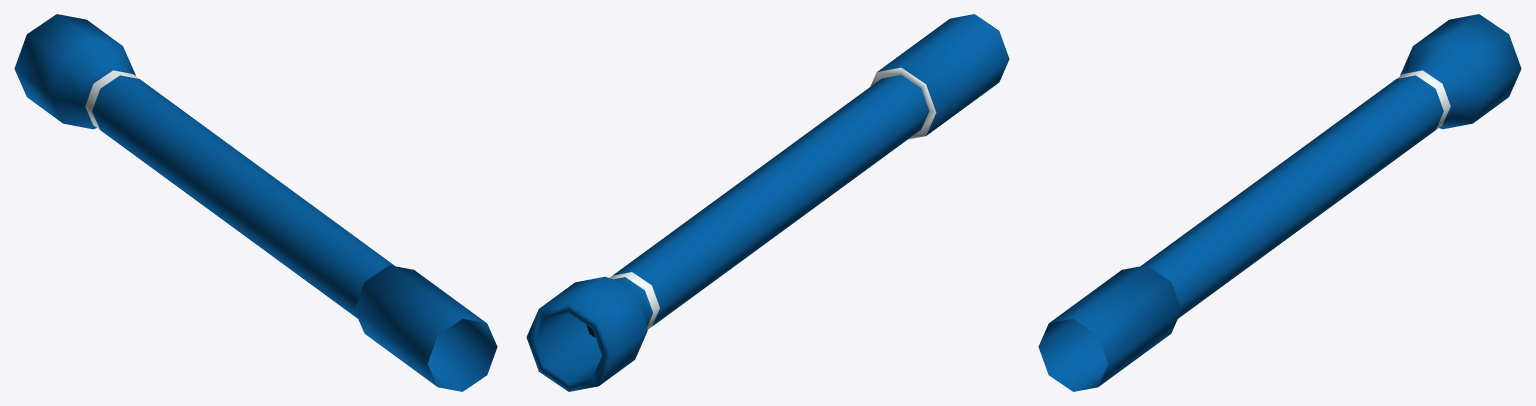
File: tank_barrel_01.fbx
The picture shows the model from 3 angles, left to right: view 1: azimuth 30°, elevation 25°; view 2: azimuth 150°, elevation 25°; view 3: azimuth 330°, elevation 25°; orthographic projection.
Visible parts, largest first — view 1: Barrel; view 2: Barrel; view 3: Barrel.
Boxes of the visible parts, x1,y1,x2,y2 form: Barrel: (14, 14, 497, 391); Barrel: (526, 14, 1009, 391); Barrel: (1038, 14, 1521, 391).
Size of the model in its own units: 243 by 243 by 2014.
